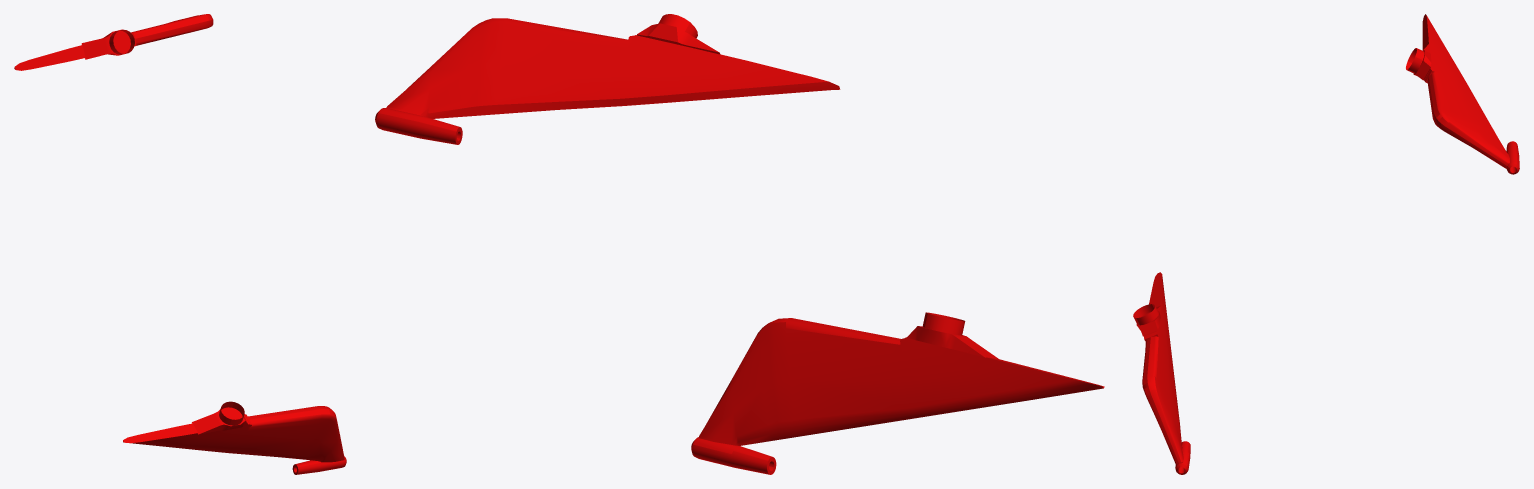
The model's file is rafale_highlight_04_sonde_gauche.fbx.
3 renders of one model, left to right at view 1: azimuth 30°, elevation 25°; view 2: azimuth 150°, elevation 25°; view 3: azimuth 270°, elevation 25°, orthographic. The views are drawn at different scales.
Parts seen in each view (by area): view 1: rafale_highlight_04_sonde_gauche; view 2: rafale_highlight_04_sonde_gauche; view 3: rafale_highlight_04_sonde_gauche.
Boxes of the visible parts, <box> form: rafale_highlight_04_sonde_gauche: <box>14,14,346,474</box>; rafale_highlight_04_sonde_gauche: <box>375,14,1104,474</box>; rafale_highlight_04_sonde_gauche: <box>1133,14,1519,474</box>.
Size of the model in its own units: 8.47 by 11.85 by 11.07.
